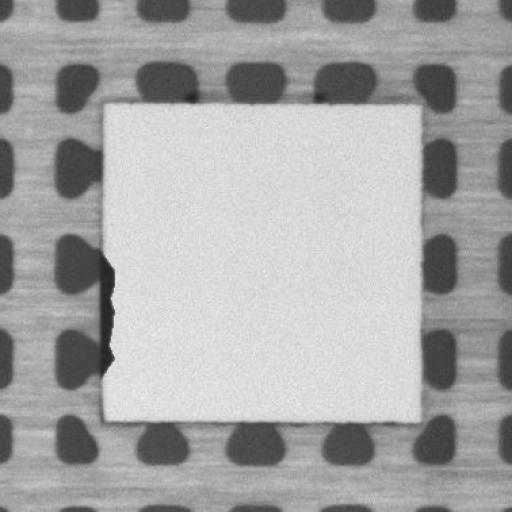DIE_BROKEN: (95, 256, 116, 378)
